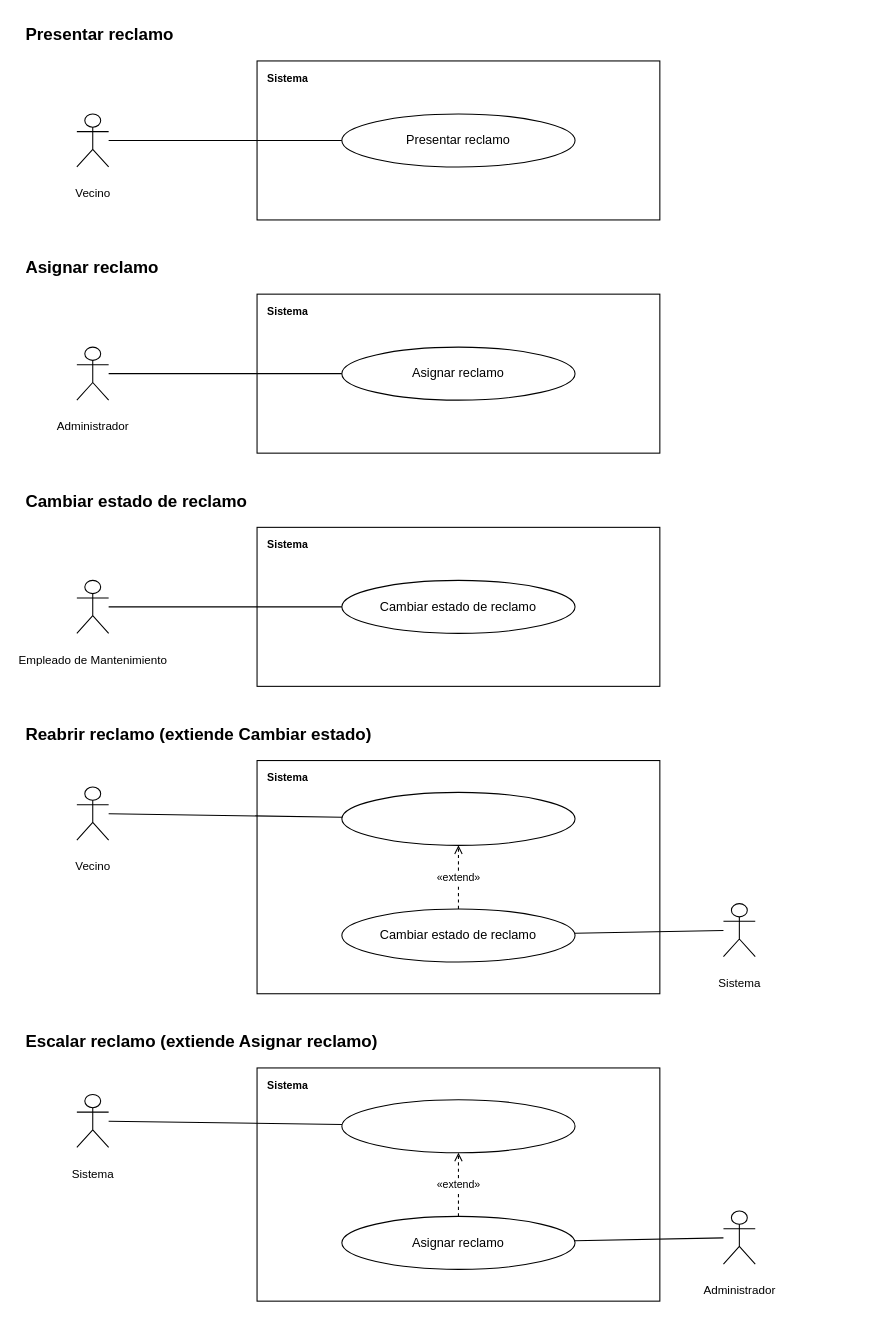
Image size: 889x1320. Some labels were removed from this diagram. Each missing label, with the centre of its shape:
Escalar reclamo: pixel 458 1126
Reabrir reclamo: pixel 458 818
